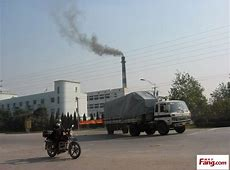smoke: (69, 31, 123, 57)
